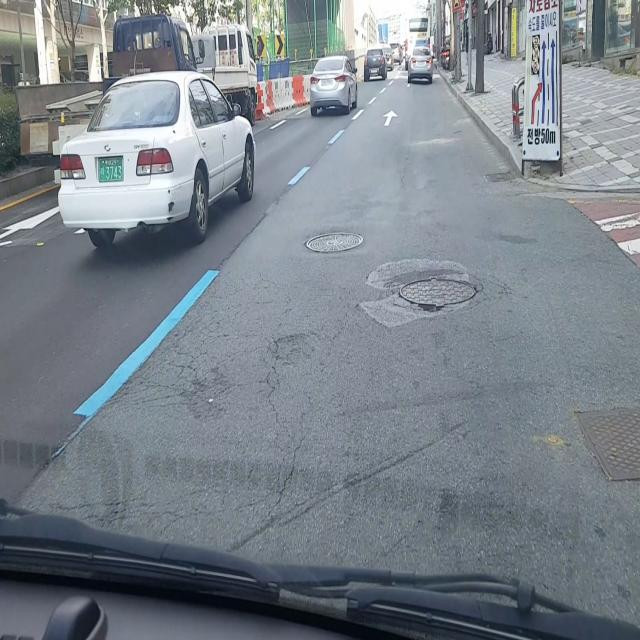Pothole: (397, 275, 479, 314)
